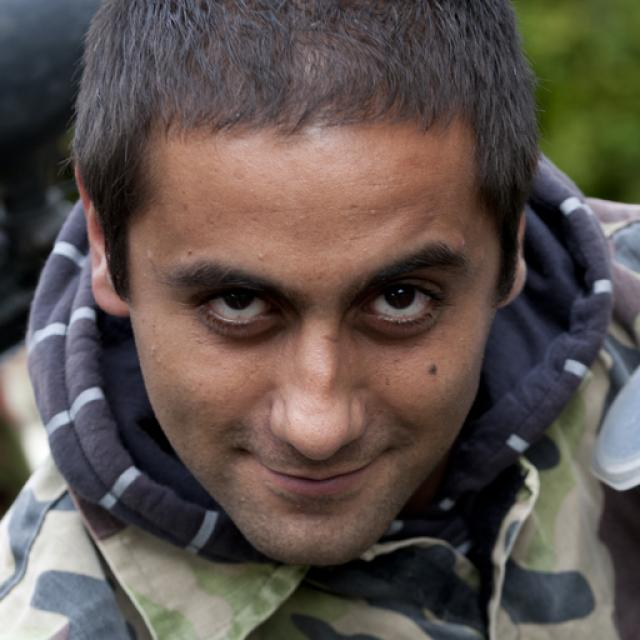Acne: (420, 359, 447, 383)
